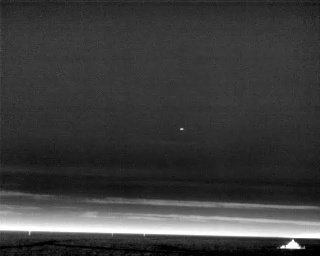BIRD: (178, 125, 186, 133)
